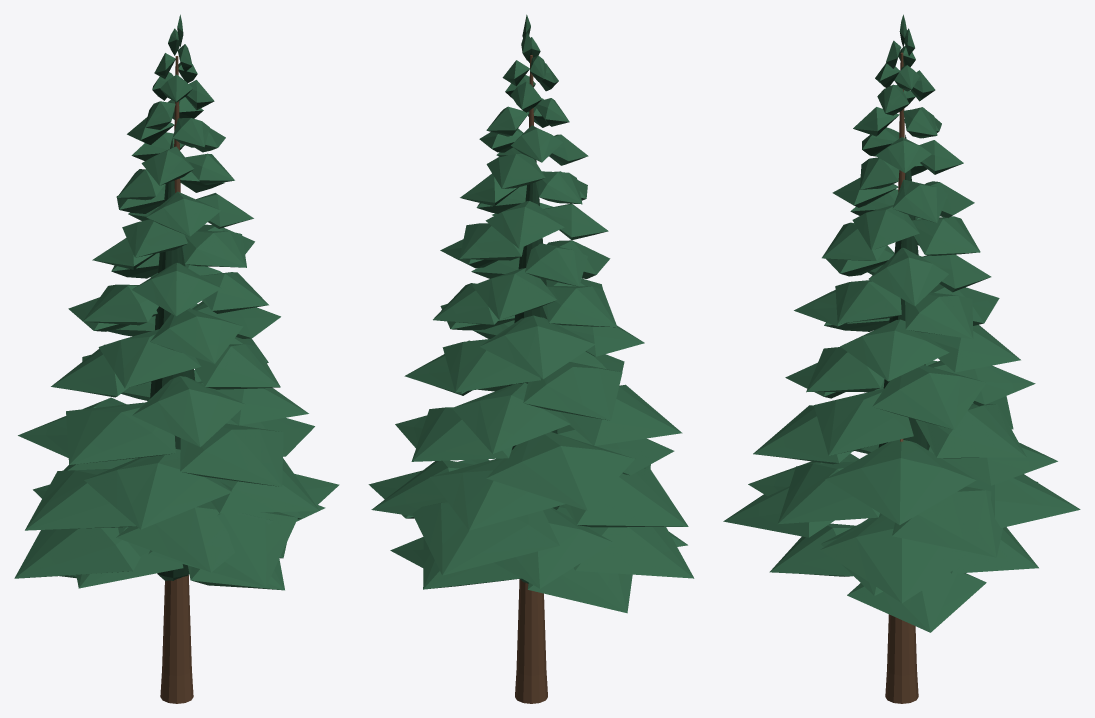
Rendered from broad-tiered-lod0.glb.
3 renders of one model, left to right at view 1: azimuth 30°, elevation 25°; view 2: azimuth 150°, elevation 25°; view 3: azimuth 270°, elevation 25°, orthographic.
Visible parts, largest first — view 1: OuterNeedles, InnerNeedles, Bark; view 2: OuterNeedles, InnerNeedles, Bark; view 3: OuterNeedles, InnerNeedles, Bark.
Part boxes in pixels (box(x1,y1,x2,y2)): OuterNeedles: box(14, 14, 339, 590); InnerNeedles: box(24, 27, 301, 590); Bark: box(160, 56, 193, 703); OuterNeedles: box(368, 14, 694, 613); InnerNeedles: box(406, 26, 682, 589); Bark: box(515, 55, 547, 703); OuterNeedles: box(723, 14, 1080, 632); InnerNeedles: box(762, 31, 1011, 576); Bark: box(885, 52, 918, 703).
Size of the model in its own units: 9.5 by 19 by 9.
